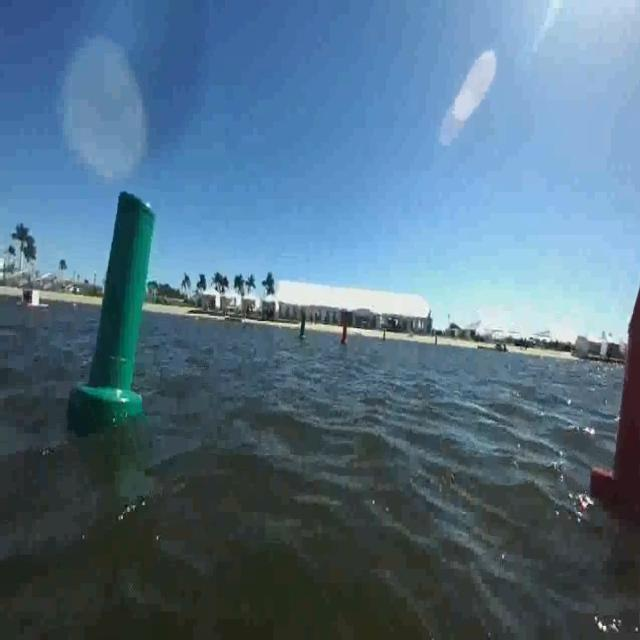green-column-buoy: (77, 195, 159, 424), (297, 309, 308, 340)
red-column-buoy: (591, 222, 640, 508), (341, 317, 352, 345)
